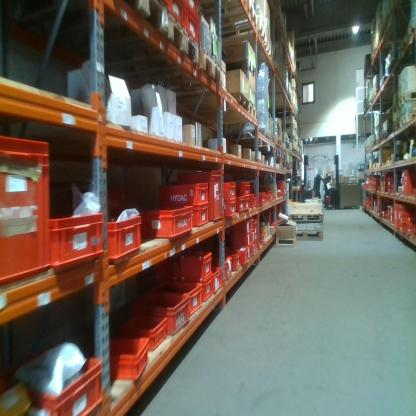pallet: (104, 14, 201, 84), (147, 50, 224, 93), (95, 1, 169, 41), (217, 21, 270, 62), (188, 1, 257, 30), (179, 93, 250, 119), (214, 105, 259, 127), (220, 59, 257, 79), (225, 126, 268, 143), (297, 230, 325, 245), (289, 211, 324, 222), (399, 90, 415, 110), (399, 111, 416, 128), (380, 131, 392, 143), (274, 136, 284, 150), (391, 121, 402, 133), (393, 101, 401, 116), (372, 90, 381, 103), (270, 131, 276, 149), (281, 143, 287, 151), (286, 163, 290, 170), (286, 151, 290, 155)
pallet_truck: (323, 147, 344, 209), (301, 152, 316, 198)
small_load_carrier: (0, 133, 53, 289), (11, 346, 106, 414), (49, 212, 104, 269), (175, 169, 224, 227), (129, 293, 192, 333), (97, 334, 150, 379), (106, 214, 145, 267), (151, 278, 204, 317), (137, 204, 191, 240), (120, 311, 168, 349), (157, 179, 209, 205), (178, 249, 212, 282), (185, 12, 202, 52), (168, 2, 185, 32), (217, 253, 234, 280), (194, 205, 209, 233), (222, 202, 239, 226), (213, 262, 225, 296), (221, 177, 239, 199), (203, 271, 215, 304), (253, 216, 261, 259), (232, 230, 256, 244), (402, 166, 413, 195), (232, 246, 242, 275), (238, 242, 250, 266), (393, 202, 403, 230), (240, 196, 252, 219), (185, 2, 200, 20), (232, 218, 253, 230), (237, 183, 253, 198), (404, 224, 415, 242), (257, 188, 268, 205), (384, 171, 391, 195), (237, 198, 245, 216), (398, 210, 408, 224), (248, 242, 256, 259), (407, 212, 416, 226), (253, 195, 259, 207), (400, 224, 406, 235), (386, 185, 393, 193), (387, 177, 393, 185), (411, 187, 415, 196), (381, 210, 385, 219), (388, 201, 390, 213), (387, 216, 390, 224)
